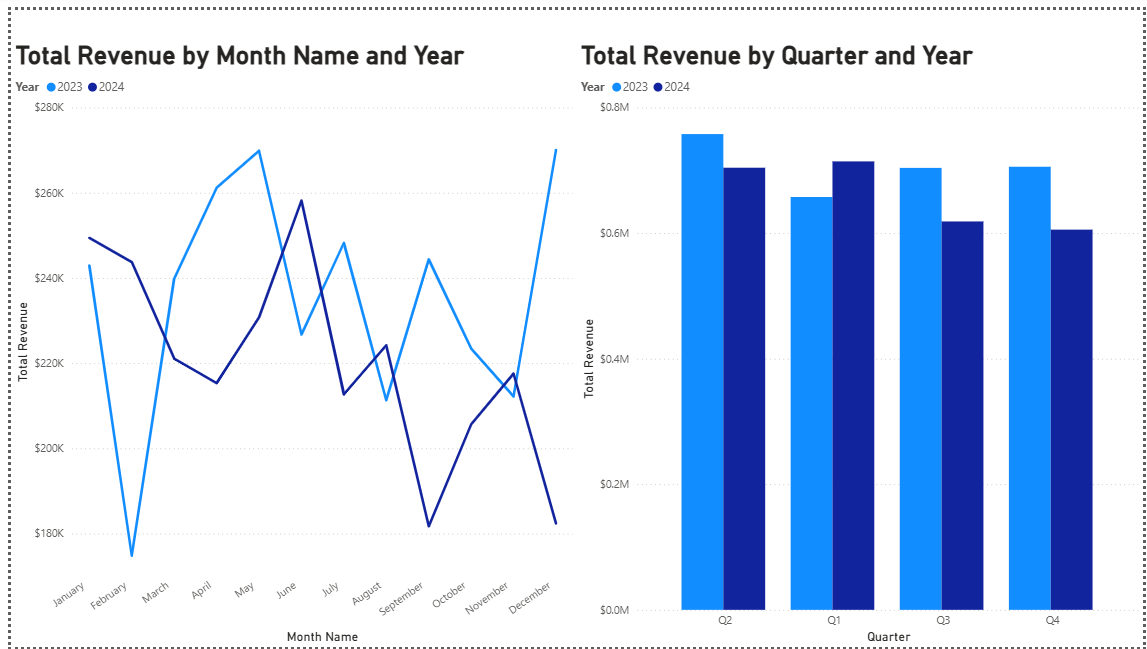

Layout of this report page (visuals, bound fields, positions):
{"tool":"powerbi","page":{"name":"SalesPerformance overview ","canvas":[1280,720],"ordinal":0},"visuals":[{"type":"lineChart","fields":{"Category":["Calender.Month Name"],"Y":["ecommerce_preprocessed.Total Revenue"],"Series":["Calender.Year"]},"box":[0,34,639.6,686.6],"z":0},{"type":"clusteredColumnChart","fields":{"Category":["Calender.Quarter"],"Y":["ecommerce_preprocessed.Total Revenue"],"Series":["Calender.Year"]},"box":[639.6,34,641.2,686.6],"z":1000}]}

Visuals, with their boxes in screenshot pixels (x1, y1, x2, y2), scaled from the page's 1280x720 canvas onto the 1147x649 screenshot:
lineChart - Calender.Month Name x ecommerce_preprocessed.Total Revenue: rect(0, 31, 573, 648)
clusteredColumnChart - Calender.Quarter x ecommerce_preprocessed.Total Revenue: rect(573, 31, 1146, 648)
